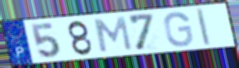5: (29, 21, 62, 59)
7: (126, 13, 157, 52)
8: (66, 20, 94, 56)
G: (162, 11, 195, 48)
I: (195, 7, 213, 47)
M: (92, 16, 134, 54)
